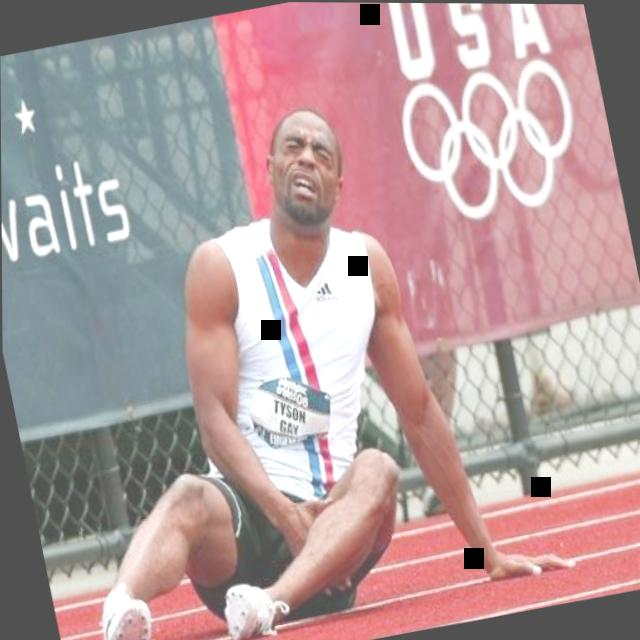Fall-Detected: (0, 61, 583, 640)
